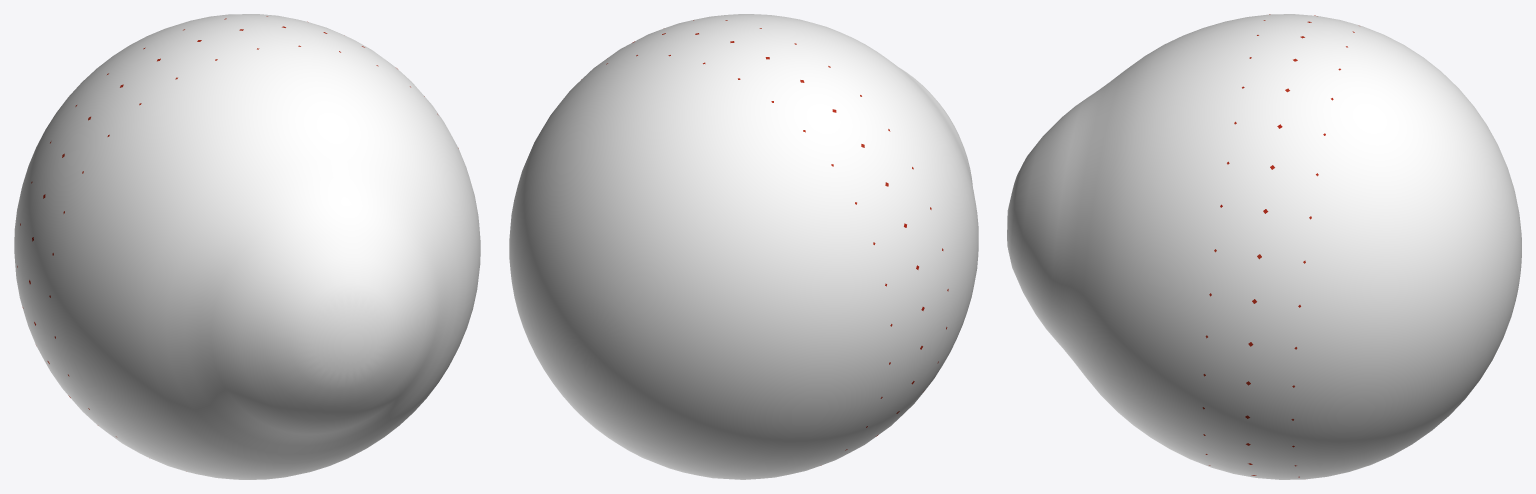
The model's file is Eye.glb.
The picture shows the model from 3 angles, left to right: view 1: azimuth 30°, elevation 25°; view 2: azimuth 150°, elevation 25°; view 3: azimuth 270°, elevation 25°; orthographic projection.
Parts seen in each view (by area): view 1: Cornea; view 2: Cornea; view 3: Cornea.
Boxes of the visible parts, x1,y1,x2,y2 form: Cornea: [14, 14, 480, 479]; Cornea: [509, 14, 978, 479]; Cornea: [1007, 14, 1521, 479].
Bounding box in the file's own units: 0.0476 × 0.0476 × 0.0526.
2 materials, 1 textured.
